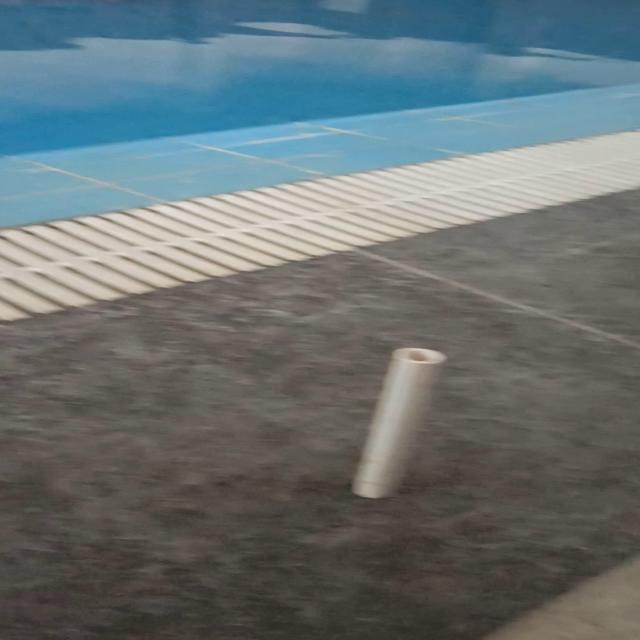Cube: (349, 346, 447, 498)
